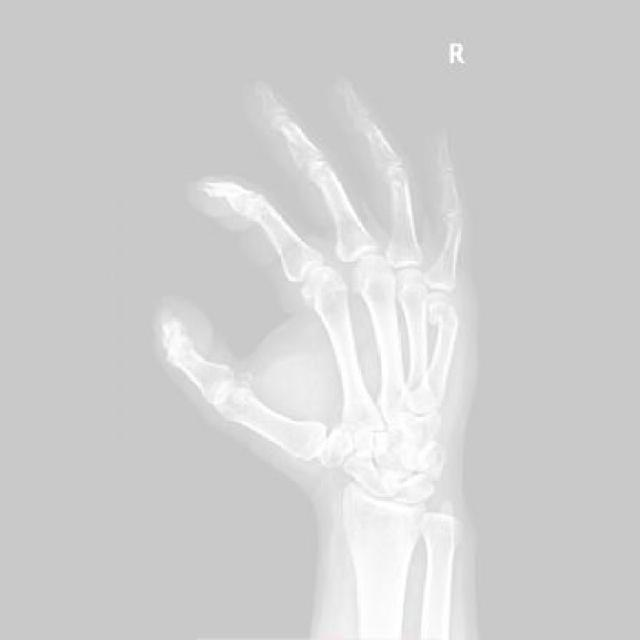Fracture: (426, 293, 462, 333)
